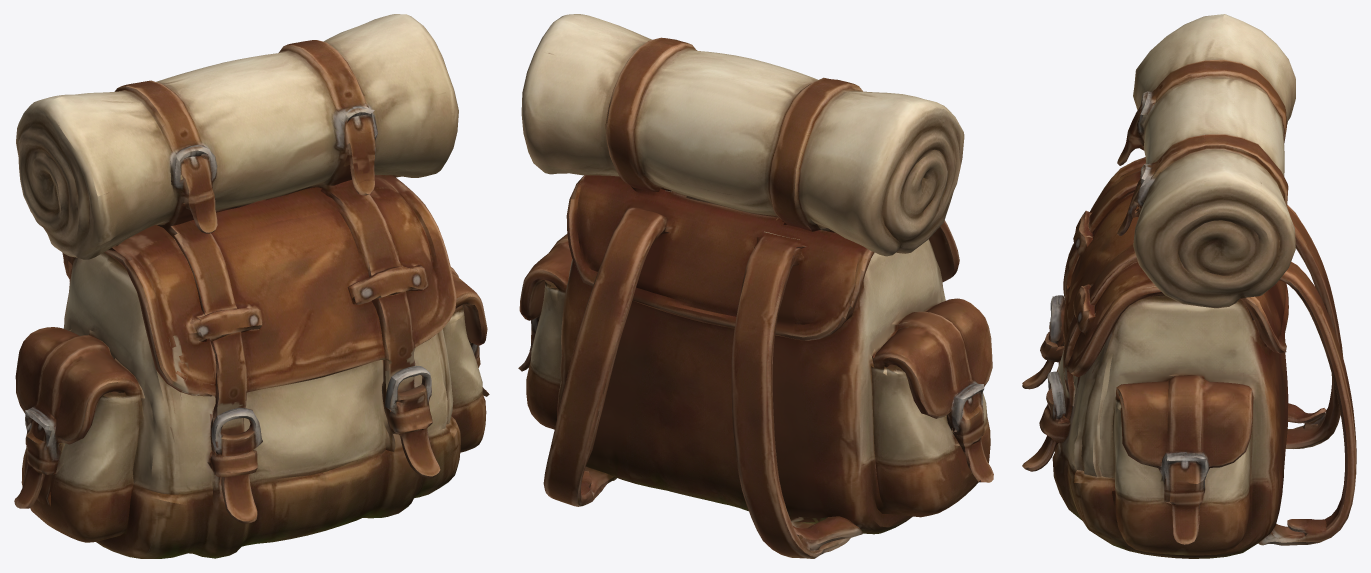
Rendered from harvest_satchel.glb.
3 views of the same model, side by side, from view 1: azimuth 30°, elevation 25°; view 2: azimuth 150°, elevation 25°; view 3: azimuth 270°, elevation 25° (orthographic). The views are drawn at different scales.
Parts seen in each view (by area): view 1: Mesh_0; view 2: Mesh_0; view 3: Mesh_0.
Part boxes in pixels (x1=…): Mesh_0: x1=14, y1=14, x2=489, y2=558; Mesh_0: x1=518, y1=14, x2=993, y2=558; Mesh_0: x1=1022, y1=14, x2=1356, y2=558.
Bounding box in the file's own units: 1.9 × 1.69 × 1.28.
1 material, 1 textured.
